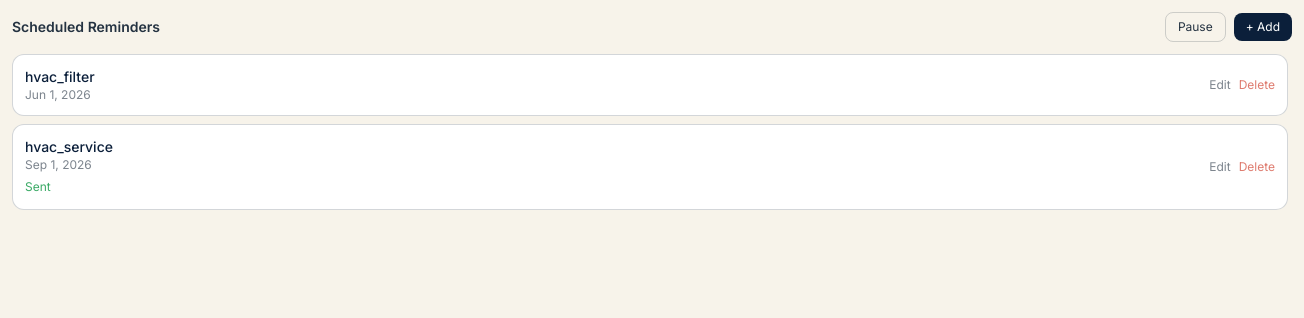
Test case: RemindersPanel › shows error and does not refresh when Save request fails
Click the button "Edit" in the row of "hvac_filter". click: click(1220, 85)
box: [1209, 77, 1231, 93]
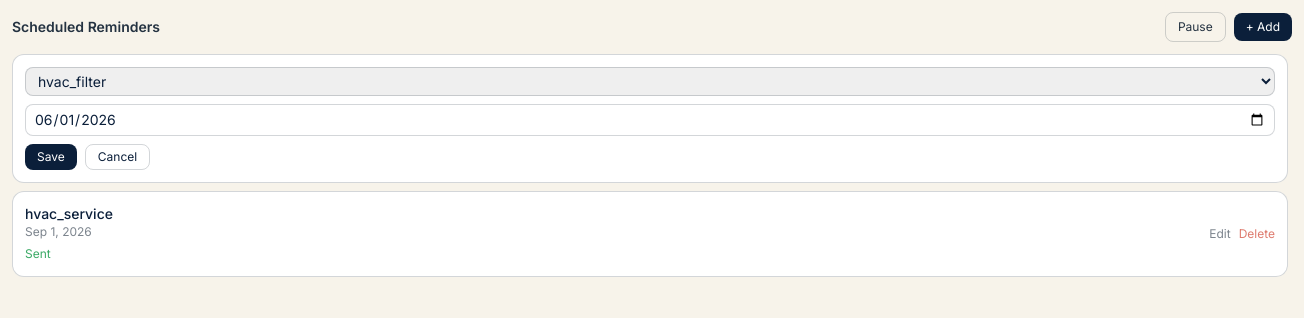
Click the button "Save". click: click(51, 157)
box: [25, 144, 77, 170]
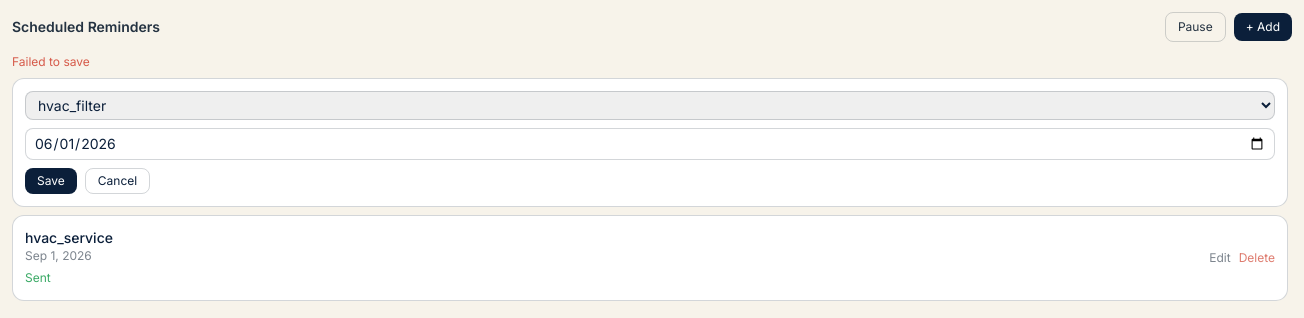
Expected: the text "Failed to save" is shown, [12, 54, 90, 69]
